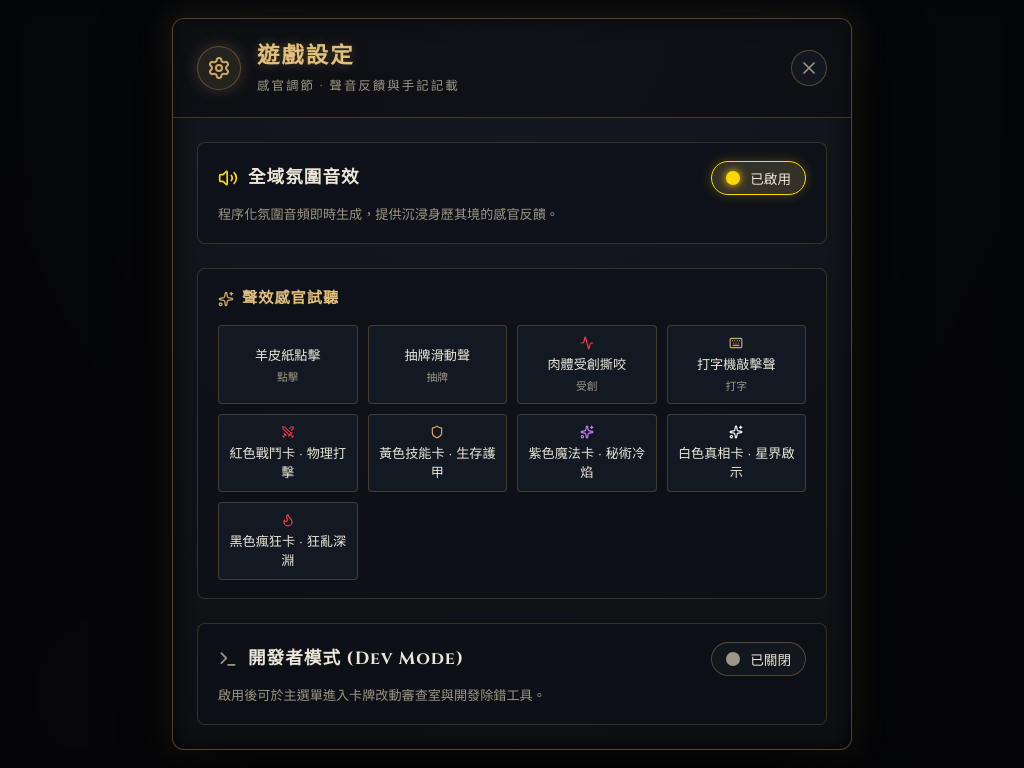
Test case: SettingsModal - Dev Mode Toggle (ADR-0036 / #62) › toggles dev mode on click, updates UI, and persists to localStorage
Click the button with aria-label "開啟開發者模式".
click(759, 659)  # box left=711, top=642, right=806, bottom=676
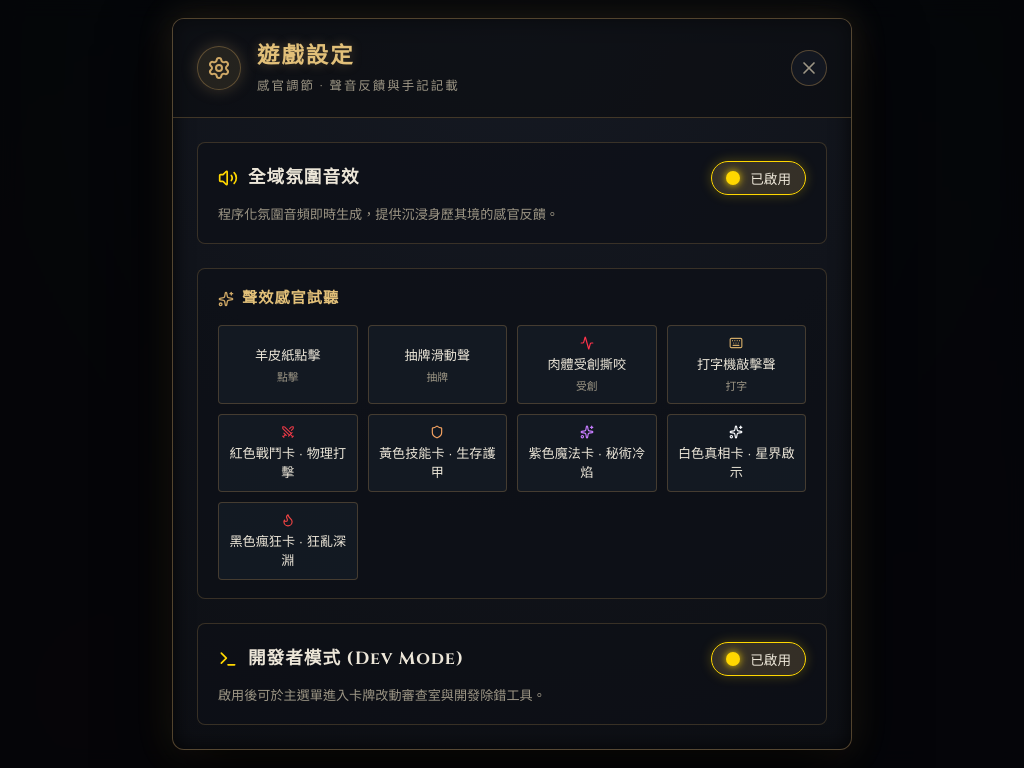
Check: the button with aria-label "關閉開發者模式" is shown
Check: the button with aria-label "關閉開發者模式" reads "已啟用"
Note: Toggle off again
Click the button with aria-label "關閉開發者模式".
click(759, 659)  # box left=711, top=642, right=806, bottom=676
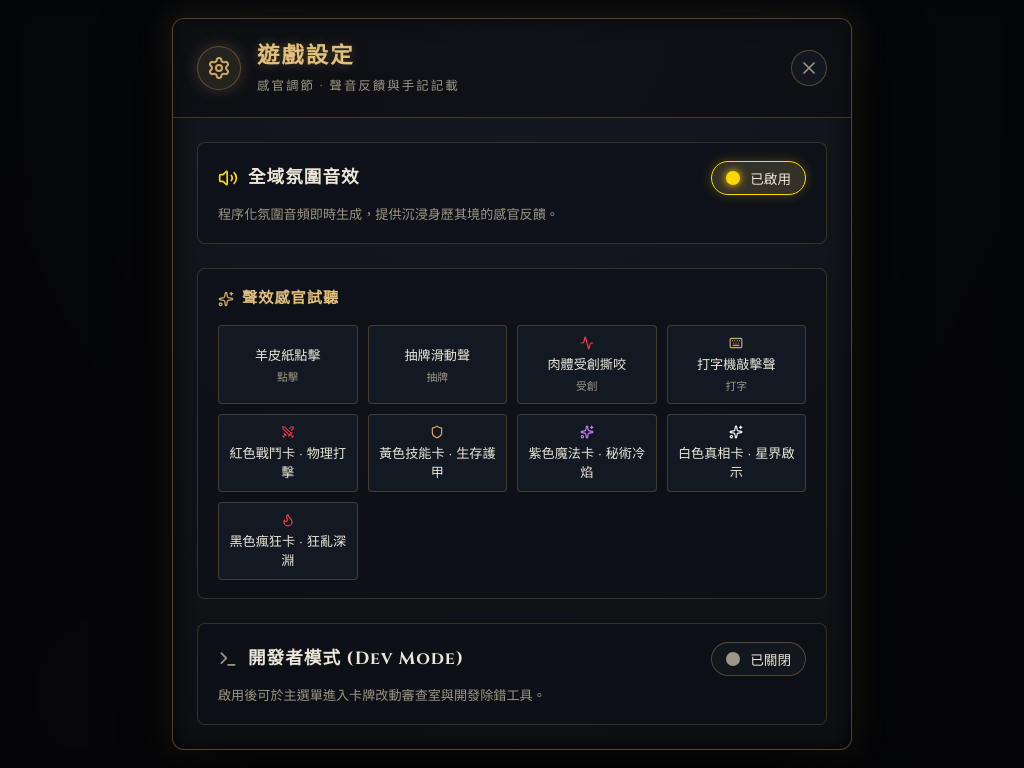
Check: the button with aria-label "開啟開發者模式" reads "已關閉", box left=711, top=642, right=806, bottom=676
